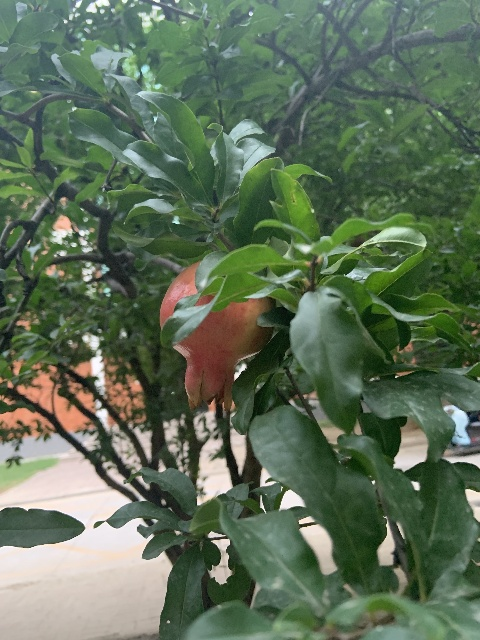ripe: (161, 259, 275, 413)
